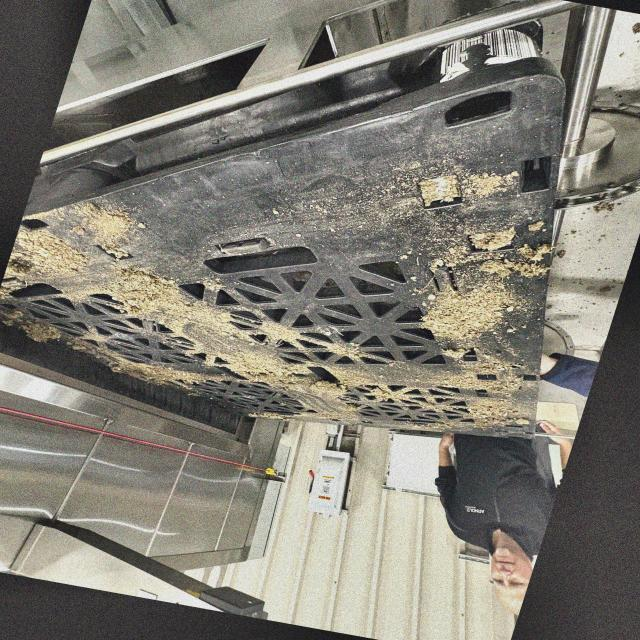igps: (0, 3, 578, 447)
